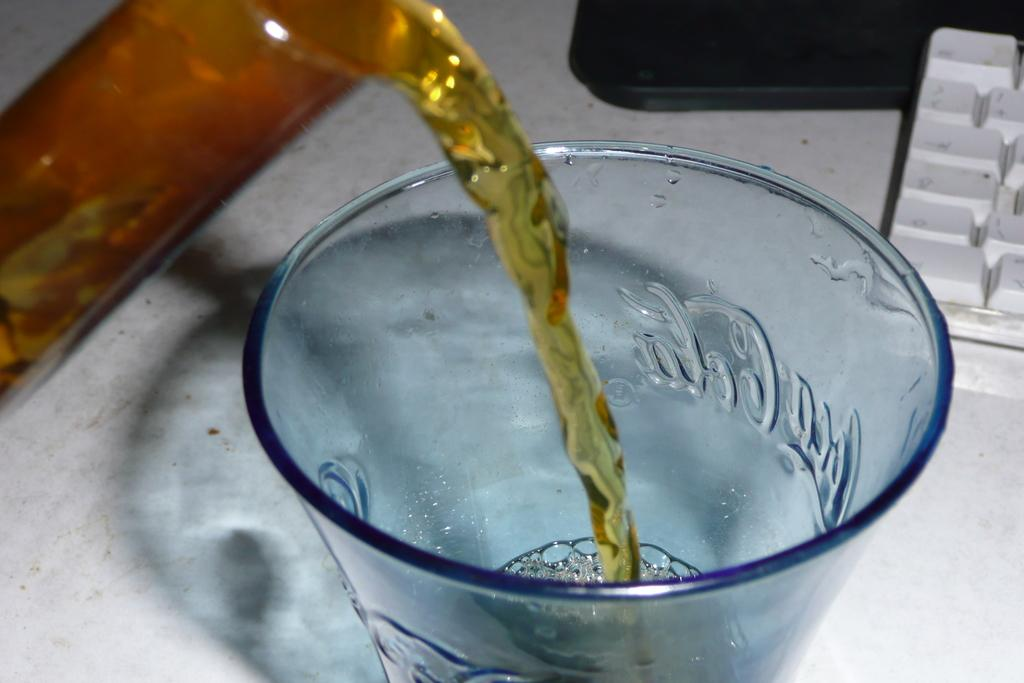Computer-keyboard: (884, 26, 1023, 353)
